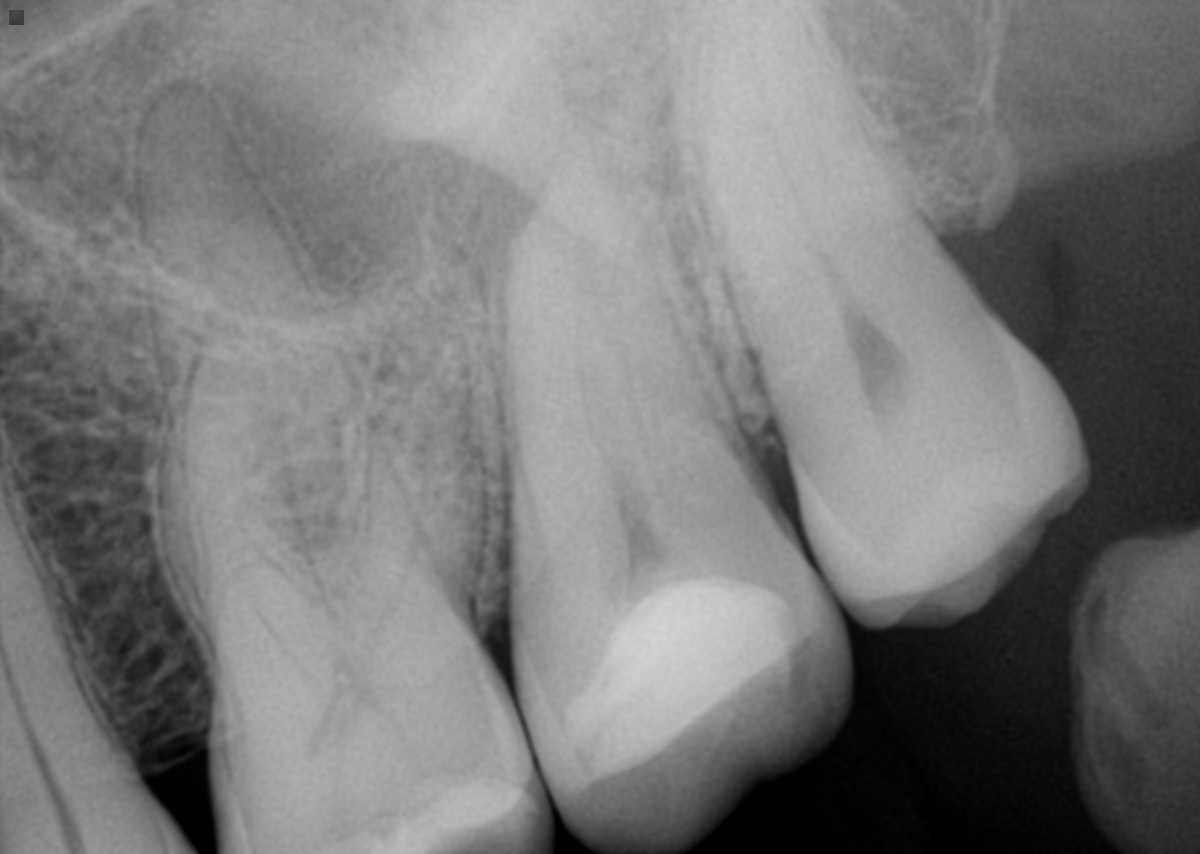Distal Canal: (358, 435, 432, 663)
Distal Root: (324, 233, 488, 653), (598, 158, 752, 555)
Main Canal: (769, 115, 898, 381), (1, 648, 58, 788)
Main Root: (684, 0, 974, 451), (0, 468, 128, 806)
Mesial Canal: (254, 608, 332, 692)
Mesial Root: (148, 291, 327, 709), (489, 166, 632, 632)
Palatal Root: (471, 20, 783, 608), (126, 82, 437, 671)
